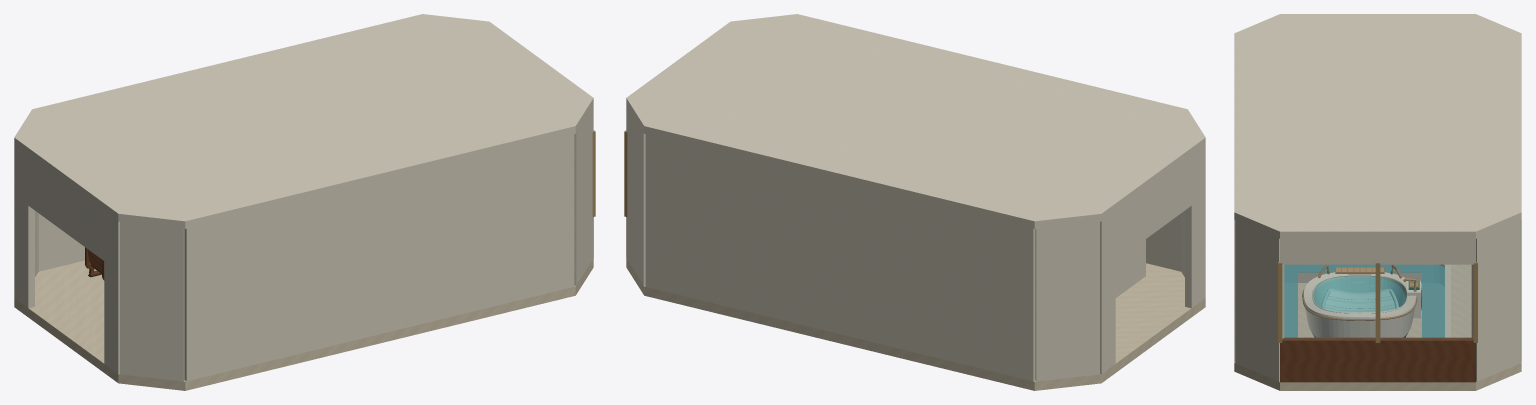
Rendered from D04_PORT_AFT_HOME_918_r001.glb.
3 views of the same model, side by side, from view 1: azimuth 30°, elevation 25°; view 2: azimuth 150°, elevation 25°; view 3: azimuth 270°, elevation 25° (orthographic). The views are drawn at different scales.
Parts seen in each view (by area): view 1: PA918_D04SH925_Roof, PA918_D04SH925_Shell_7, PA918_D04SH925_Floor, PA918_D04SH925_Shell_0, PA918_D04SH925_EntryHeader, PA918_D04SH925_Shell_6, PA918_D04SH925_EntryWall_1, PA918_D04SH925_EntryWall_0, PA918_D04SH925_Shell_3; view 2: PA918_D04SH925_Roof, PA918_D04SH925_Shell_3, PA918_D04SH925_Floor, PA918_D04SH925_Shell_2, PA918_D04SH925_EntryHeader, PA918_D04SH925_Shell_4, PA918_D04SH925_EntryWall_0, PA918_D04SH925_EntryWall_1, PA918_D04SH925_Shell_7, PA918_D04SH925_BathDogleg; view 3: PA918_D04SH925_Roof, PA918_D04SH925_GardenGlass, PA918_D04SH925_GardenDado, PA918_D04SH925_Shell_4, PA918_D04SH925_Shell_6, PA918_D04SH925_GardenHead, PA918_D04SH925_Floor, PA918_ReservedAquaticRest__Hollow continuous basin shell wit, PA918_D04SH925_Water_0, PA918_ReservedAquaticRest__WaterSurface_VisualOnly, PA918_ReservedAquaticRest__Contoured broad immersed rest sup, PA918_D04SH925_AquaticBasinRim (+8 smaller).
Part boxes in pixels (bbox=[...]): PA918_D04SH925_Roof: bbox=[14, 14, 593, 228]; PA918_D04SH925_Shell_7: bbox=[184, 134, 574, 381]; PA918_D04SH925_Floor: bbox=[14, 258, 593, 390]; PA918_D04SH925_Shell_0: bbox=[120, 221, 184, 381]; PA918_D04SH925_EntryHeader: bbox=[28, 156, 104, 260]; PA918_D04SH925_Shell_6: bbox=[574, 106, 593, 285]; PA918_D04SH925_EntryWall_1: bbox=[14, 145, 34, 308]; PA918_D04SH925_EntryWall_0: bbox=[104, 211, 119, 373]; PA918_D04SH925_Shell_3: bbox=[38, 213, 84, 271]; PA918_D04SH925_Roof: bbox=[626, 14, 1205, 228]; PA918_D04SH925_Shell_3: bbox=[645, 134, 1035, 381]; PA918_D04SH925_Floor: bbox=[626, 258, 1205, 390]; PA918_D04SH925_Shell_2: bbox=[1035, 221, 1099, 381]; PA918_D04SH925_EntryHeader: bbox=[1115, 156, 1191, 260]; PA918_D04SH925_Shell_4: bbox=[626, 106, 645, 285]; PA918_D04SH925_EntryWall_0: bbox=[1185, 145, 1205, 308]; PA918_D04SH925_EntryWall_1: bbox=[1100, 211, 1115, 373]; PA918_D04SH925_Shell_7: bbox=[1146, 213, 1181, 271]; PA918_D04SH925_BathDogleg: bbox=[1115, 239, 1145, 297]; PA918_D04SH925_Roof: bbox=[1234, 14, 1521, 238]; PA918_D04SH925_GardenGlass: bbox=[1284, 265, 1471, 340]; PA918_D04SH925_GardenDado: bbox=[1280, 337, 1475, 382]; PA918_D04SH925_Shell_4: bbox=[1471, 220, 1520, 381]; PA918_D04SH925_Shell_6: bbox=[1235, 220, 1284, 381]; PA918_D04SH925_GardenHead: bbox=[1280, 239, 1475, 264]; PA918_D04SH925_Floor: bbox=[1234, 264, 1521, 390]; PA918_ReservedAquaticRest__Hollow continuous basin shell wit: bbox=[1303, 272, 1416, 337]; PA918_D04SH925_Water_0: bbox=[1284, 264, 1444, 337]; PA918_ReservedAquaticRest__WaterSurface_VisualOnly: bbox=[1315, 278, 1405, 312]; PA918_ReservedAquaticRest__Contoured broad immersed rest sup: bbox=[1324, 289, 1395, 312]; PA918_D04SH925_AquaticBasinRim: bbox=[1298, 264, 1450, 337].
Size of the model in its own units: 12.93 by 4.4 by 7.2.
40 materials, 21 textured.
